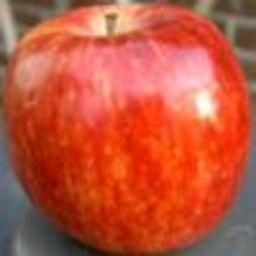apple: (1, 2, 254, 256)
